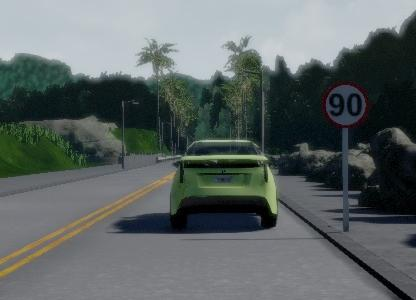Speed_90: (321, 77, 370, 134)
